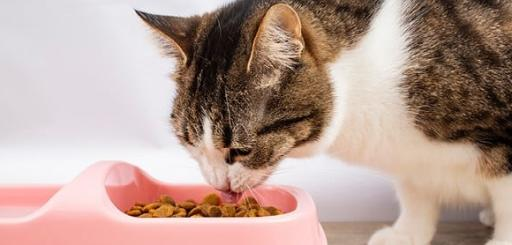cat_eating: (1, 0, 512, 245)
